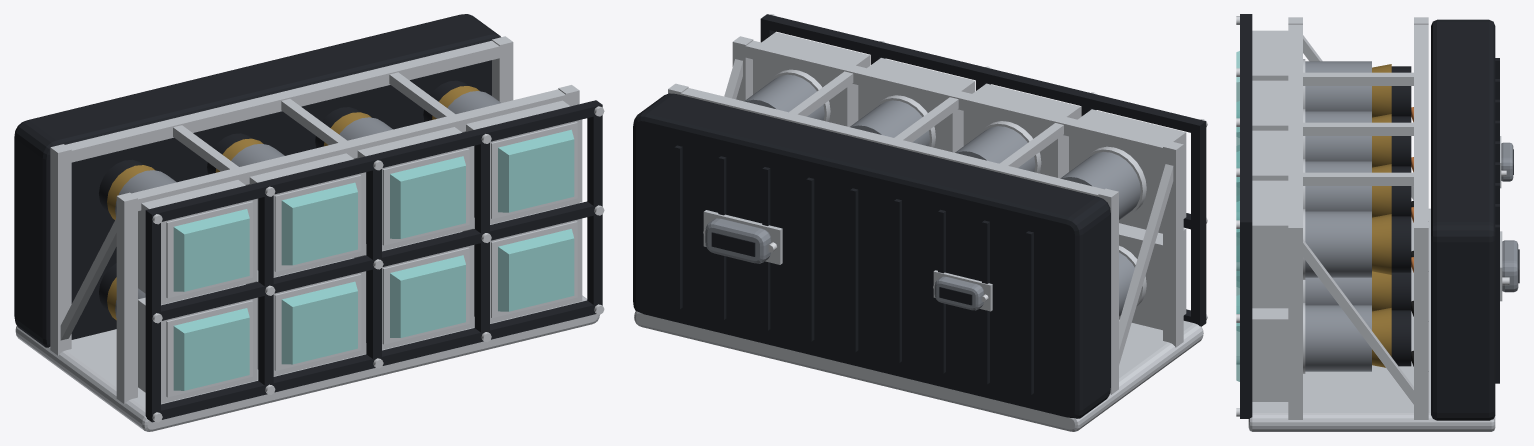
The model's file is inst-neutron.glb.
3 renders of one model, left to right at view 1: azimuth 30°, elevation 25°; view 2: azimuth 150°, elevation 25°; view 3: azimuth 270°, elevation 25°, orthographic. The views are drawn at different scales.
Parts seen in each view (by area): view 1: tile-reflectors, tile-crystals, electronics, bezel-anodized_black, cage-aluminium, tile-cans, base-plate, pmts-aluminium_dark, pmts-anodized_black, pmts-pmt_glass, bezel-solder; view 2: electronics, cage-aluminium, tile-cans, electronics-ribs, bezel-anodized_black, base-plate, pmts-aluminium_dark, pmts-aluminium, conn-data-shell, conn-power-shell, conn-data-flange, conn-data-insert (+1 smaller); view 3: electronics, cage-aluminium, pmts-aluminium_dark, tile-cans, base-plate, pmts-anodized_black, bezel-anodized_black, pmts-pmt_glass, electronics-ribs, tile-crystals, conn-data-shell, pmts-aluminium (+2 smaller).
Boxes of the visible parts, <box> form: tile-reflectors: <box>166,122,577,397</box>; tile-crystals: <box>173,129,574,390</box>; electronics: <box>14,14,500,347</box>; bezel-anodized_black: <box>145,100,602,422</box>; cage-aluminium: <box>50,36,579,404</box>; tile-cans: <box>138,100,582,403</box>; base-plate: <box>15,295,599,431</box>; pmts-aluminium_dark: <box>115,91,500,317</box>; pmts-anodized_black: <box>99,80,468,311</box>; pmts-pmt_glass: <box>107,86,479,320</box>; bezel-solder: <box>152,106,604,422</box>; electronics: <box>633,93,1110,418</box>; cage-aluminium: <box>668,36,1183,394</box>; tile-cans: <box>753,32,1186,330</box>; electronics-ribs: <box>674,145,1033,394</box>; bezel-anodized_black: <box>760,14,1206,326</box>; base-plate: <box>634,311,1203,431</box>; pmts-aluminium_dark: <box>744,74,1140,316</box>; pmts-aluminium: <box>767,69,1146,306</box>; conn-data-shell: <box>705,218,771,263</box>; conn-power-shell: <box>934,276,983,310</box>; conn-data-flange: <box>703,210,782,264</box>; conn-data-insert: <box>711,232,755,256</box>; electronics: <box>1431,19,1495,420</box>; cage-aluminium: <box>1288,17,1428,419</box>; pmts-aluminium_dark: <box>1305,61,1371,371</box>; tile-cans: <box>1252,30,1288,401</box>; base-plate: <box>1248,208,1495,431</box>; pmts-anodized_black: <box>1391,66,1411,366</box>; bezel-anodized_black: <box>1240,14,1252,418</box>; pmts-pmt_glass: <box>1372,64,1391,367</box>; electronics-ribs: <box>1495,58,1499,383</box>; tile-crystals: <box>1236,51,1239,381</box>; conn-data-shell: <box>1502,240,1518,292</box>; pmts-aluminium: <box>1303,59,1305,373</box>.
Bounding box in the file's own units: 0.2048 × 0.0945 × 0.1149.
